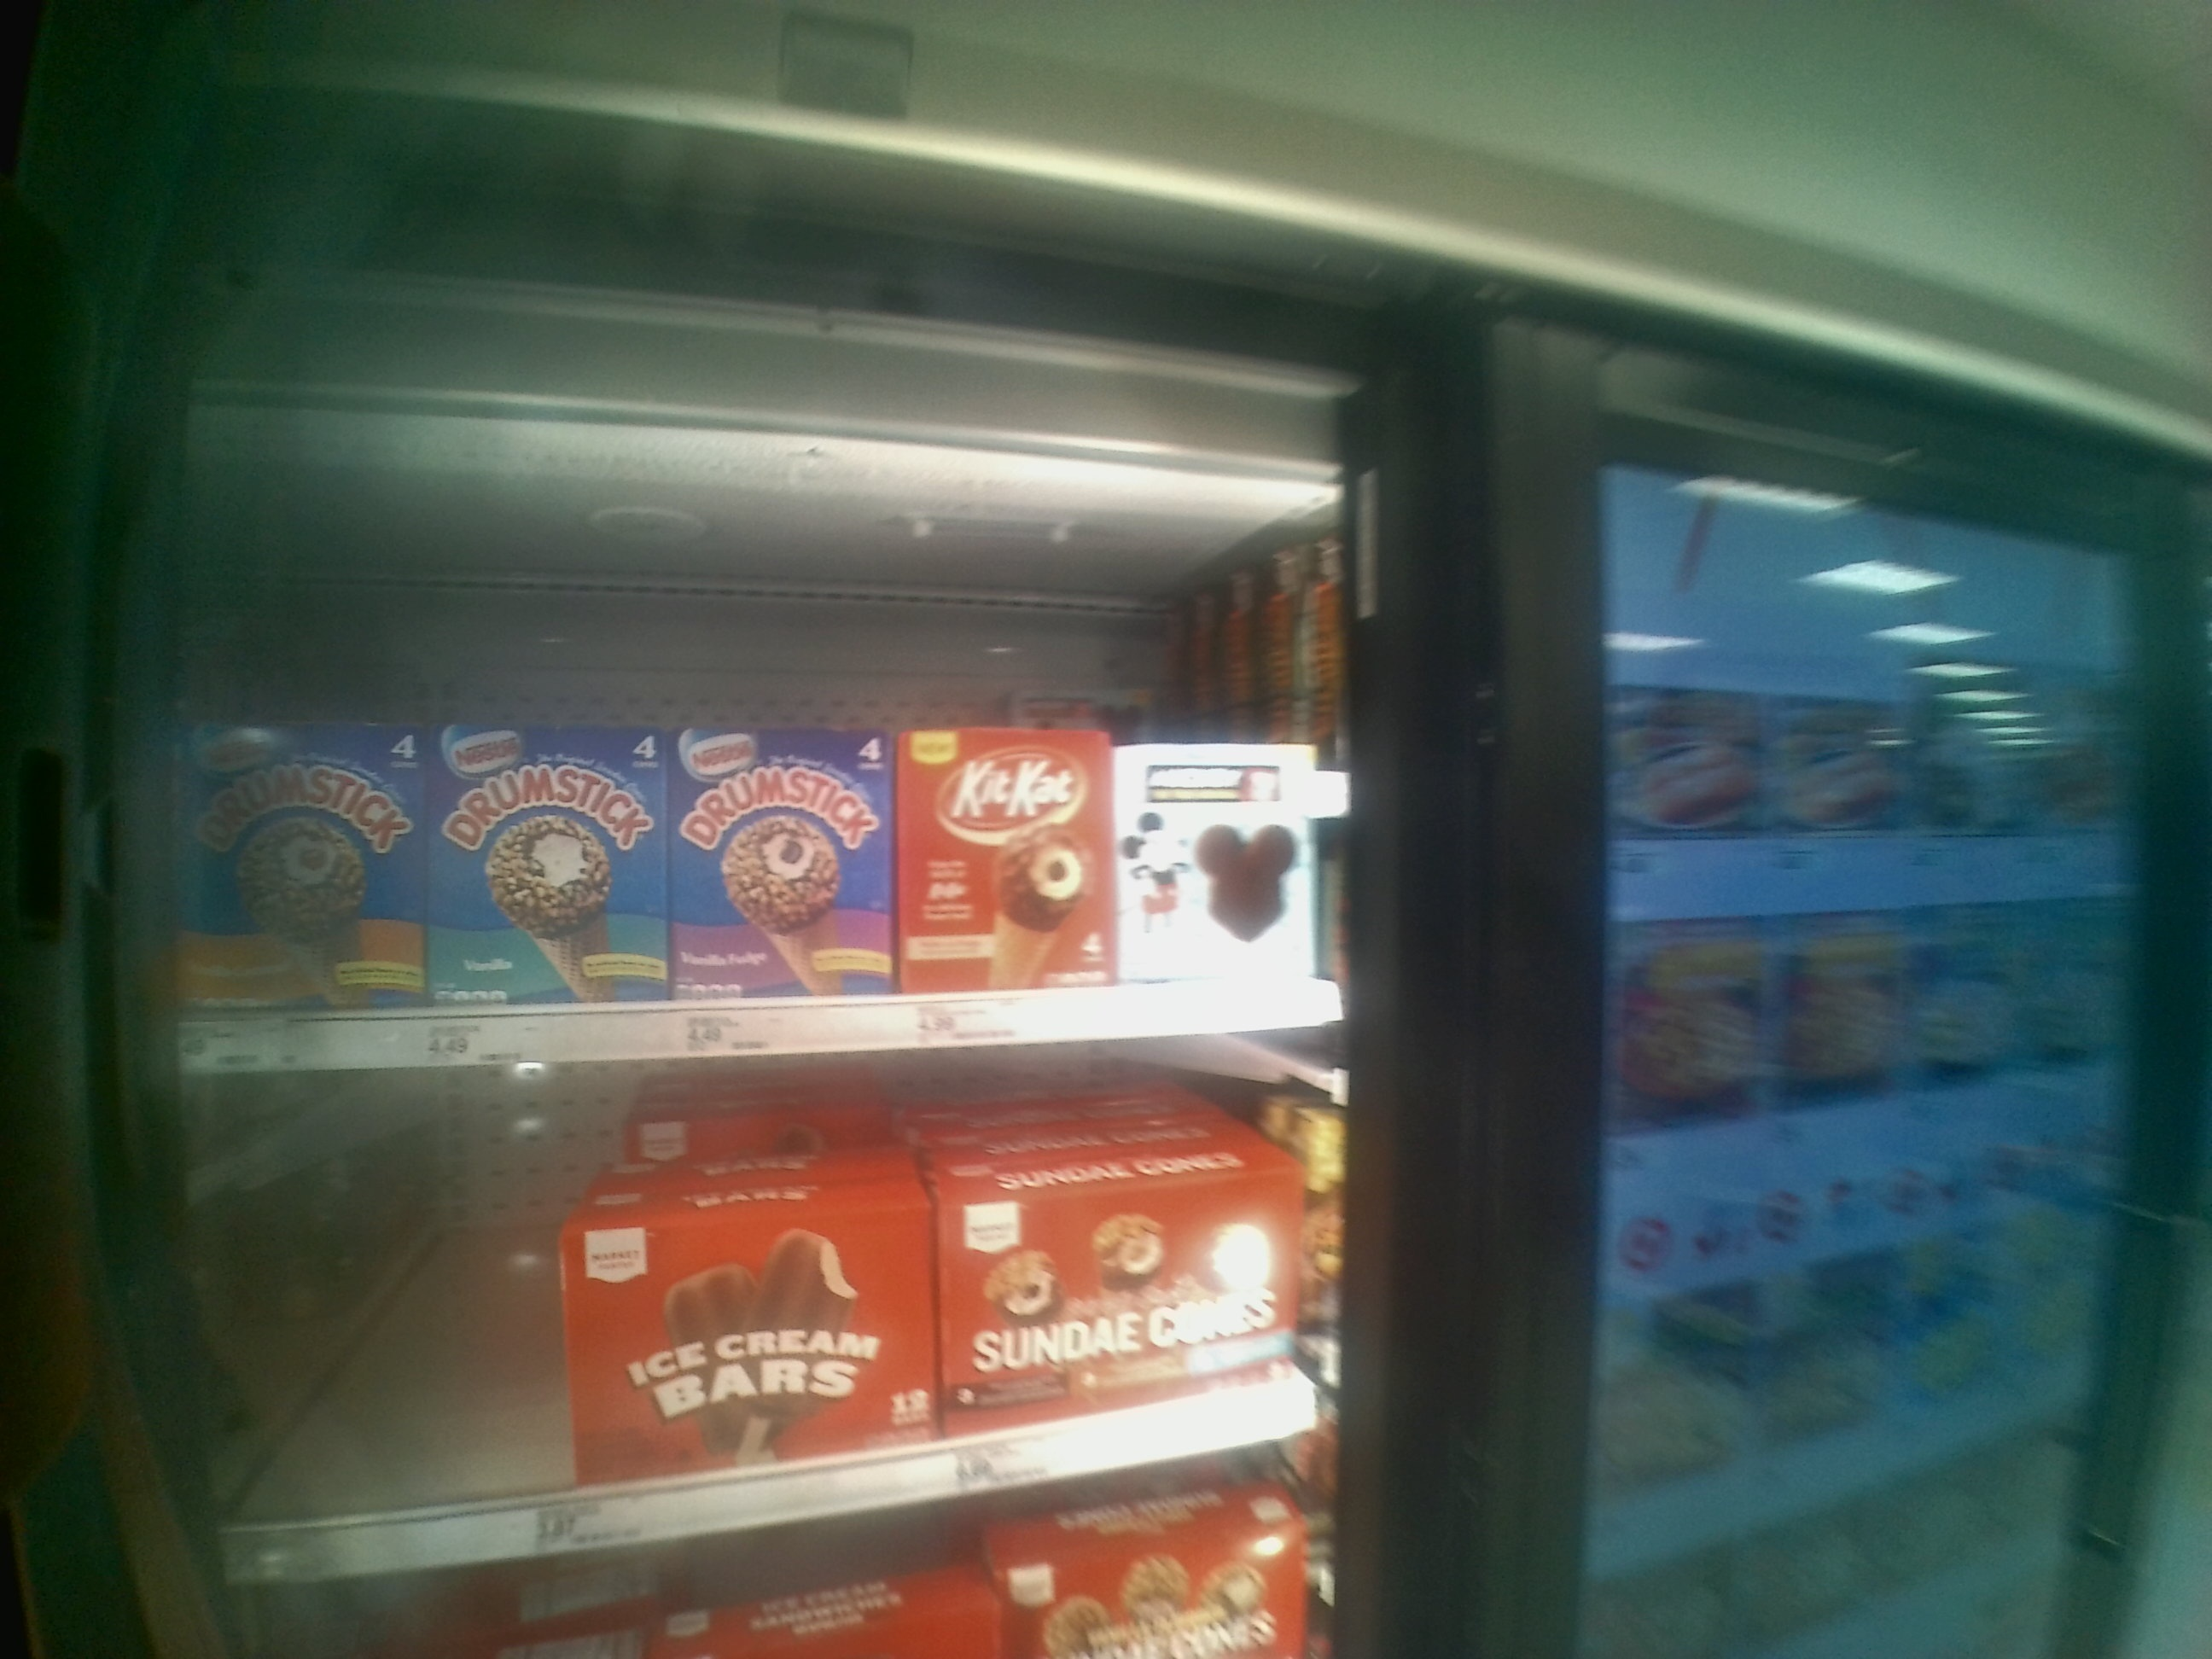shelf: (160, 396, 1374, 1035), (206, 1046, 1339, 1535)
